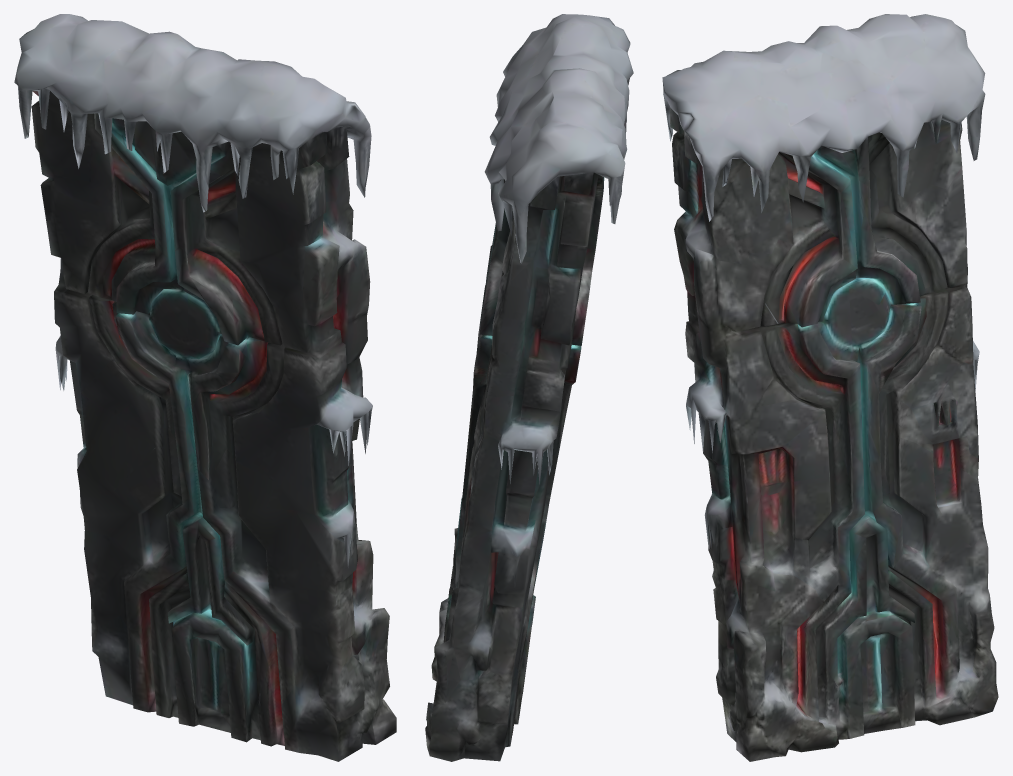
File: slab.glb
3 renders of one model, left to right at view 1: azimuth 30°, elevation 25°; view 2: azimuth 150°, elevation 25°; view 3: azimuth 270°, elevation 25°, orthographic. The views are drawn at different scales.
Parts seen in each view (by area): view 1: tripo_node_a444e7d8-428f-4925-ac95-062705192d06; view 2: tripo_node_a444e7d8-428f-4925-ac95-062705192d06; view 3: tripo_node_a444e7d8-428f-4925-ac95-062705192d06.
Boxes of the visible parts, bbox=[...] form: tripo_node_a444e7d8-428f-4925-ac95-062705192d06: bbox=[14, 14, 396, 761]; tripo_node_a444e7d8-428f-4925-ac95-062705192d06: bbox=[425, 14, 633, 761]; tripo_node_a444e7d8-428f-4925-ac95-062705192d06: bbox=[662, 14, 998, 761].
Size of the model in its own units: 0.423 by 1 by 0.4653.
Materials: 1 (1 with a texture image).
